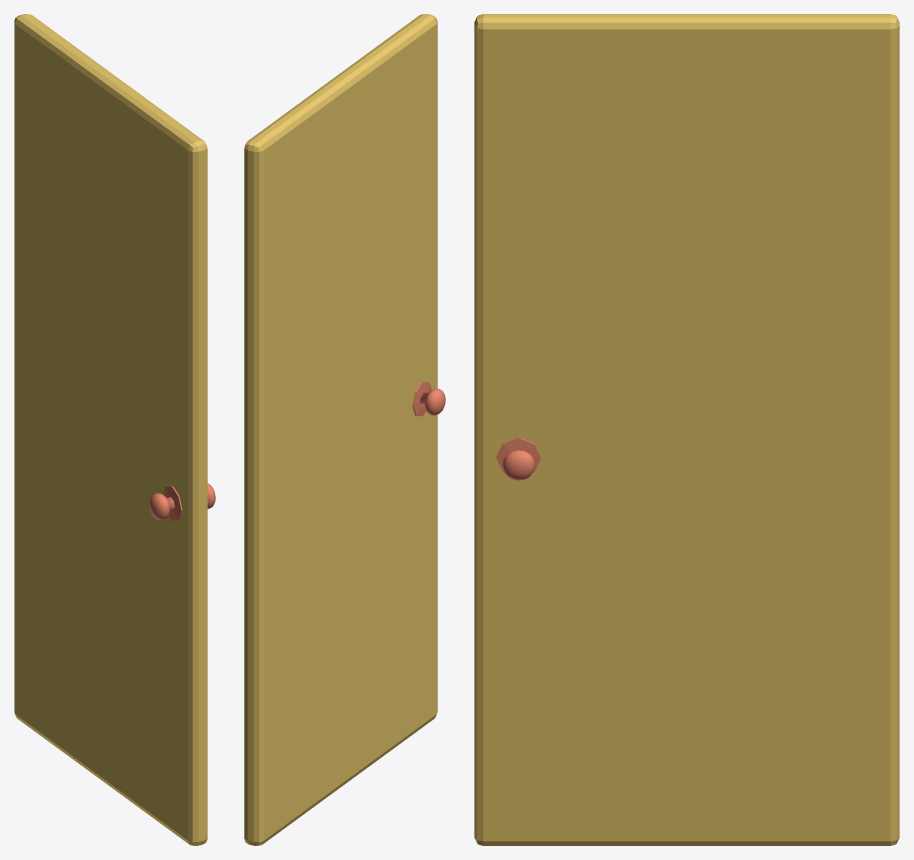
Rendered from Door_Simple.fbx.
3 renders of one model, left to right at view 1: azimuth 30°, elevation 25°; view 2: azimuth 150°, elevation 25°; view 3: azimuth 270°, elevation 25°, orthographic. The views are drawn at different scales.
Visible parts, largest first — view 1: Cube.062; view 2: Cube.062; view 3: Cube.062.
Boxes of the visible parts, x1,y1,x2,y2 form: Cube.062: [14, 14, 215, 845]; Cube.062: [244, 14, 445, 845]; Cube.062: [474, 14, 899, 845].
Bounding box in the file's own units: 14.09 × 156 × 72.43.
